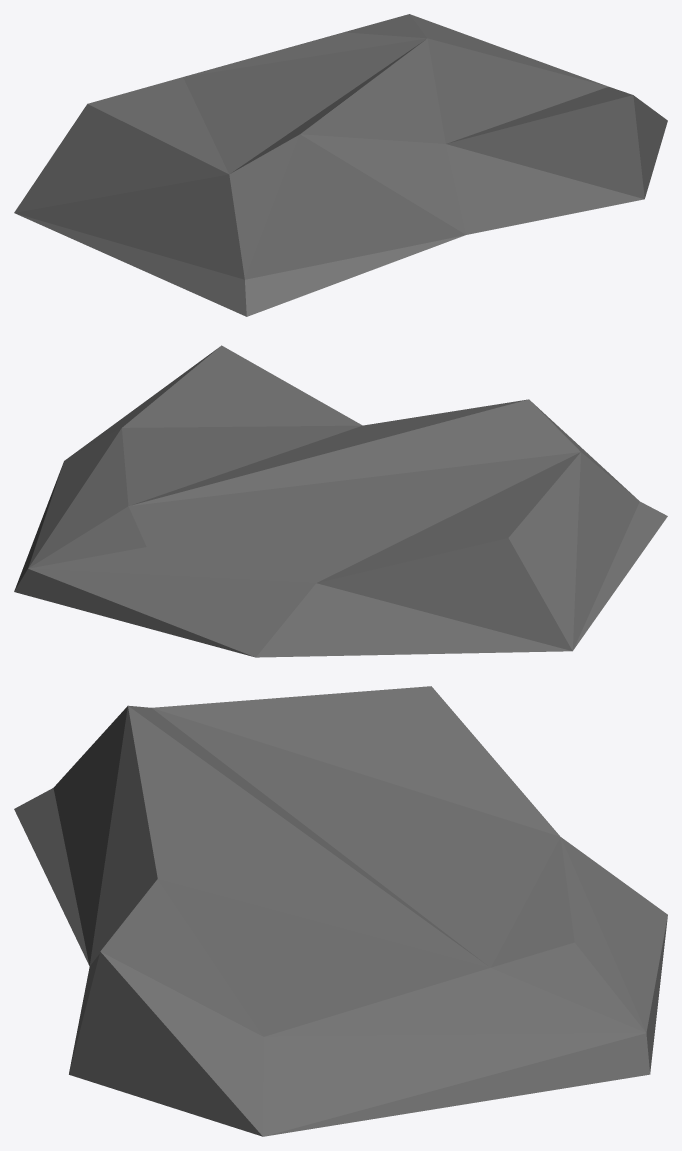
Rendered from Stone_A_10.FBX.
The picture shows the model from 3 angles, top to bottom: view 1: azimuth 30°, elevation 25°; view 2: azimuth 150°, elevation 25°; view 3: azimuth 270°, elevation 25°; orthographic projection. The views are drawn at different scales.
Visible parts, largest first — view 1: Stone_A_10; view 2: Stone_A_10; view 3: Stone_A_10.
Part boxes in pixels (left/top/right/bottom): Stone_A_10: left=14, top=14, right=667, bottom=316; Stone_A_10: left=14, top=345, right=667, bottom=657; Stone_A_10: left=14, top=686, right=667, bottom=1136.
Bounding box in the file's own units: 4.23 × 0.8771 × 3.15.
